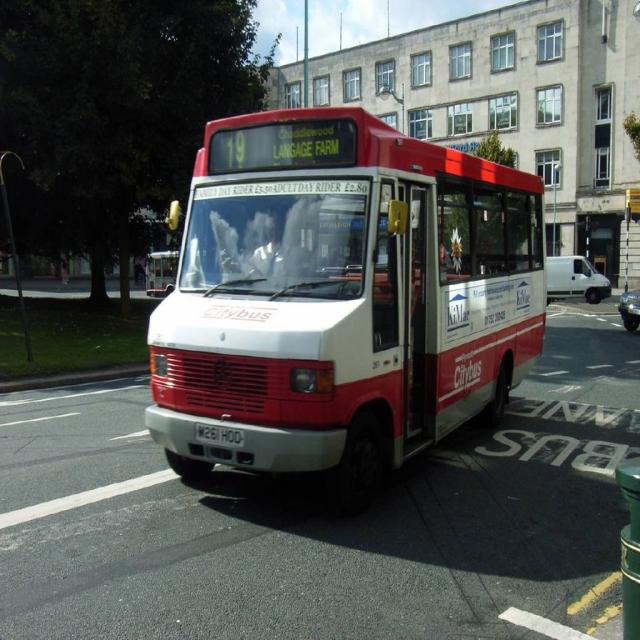Buses: (146, 104, 551, 503)
